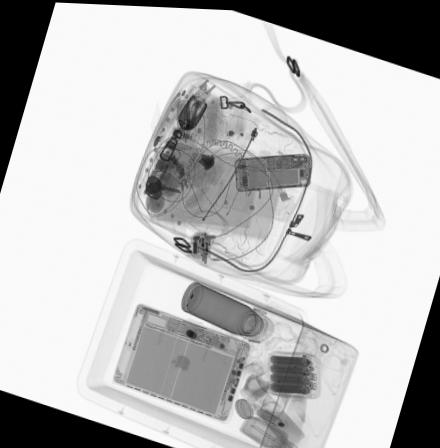Powerbank: (268, 345, 316, 390)
